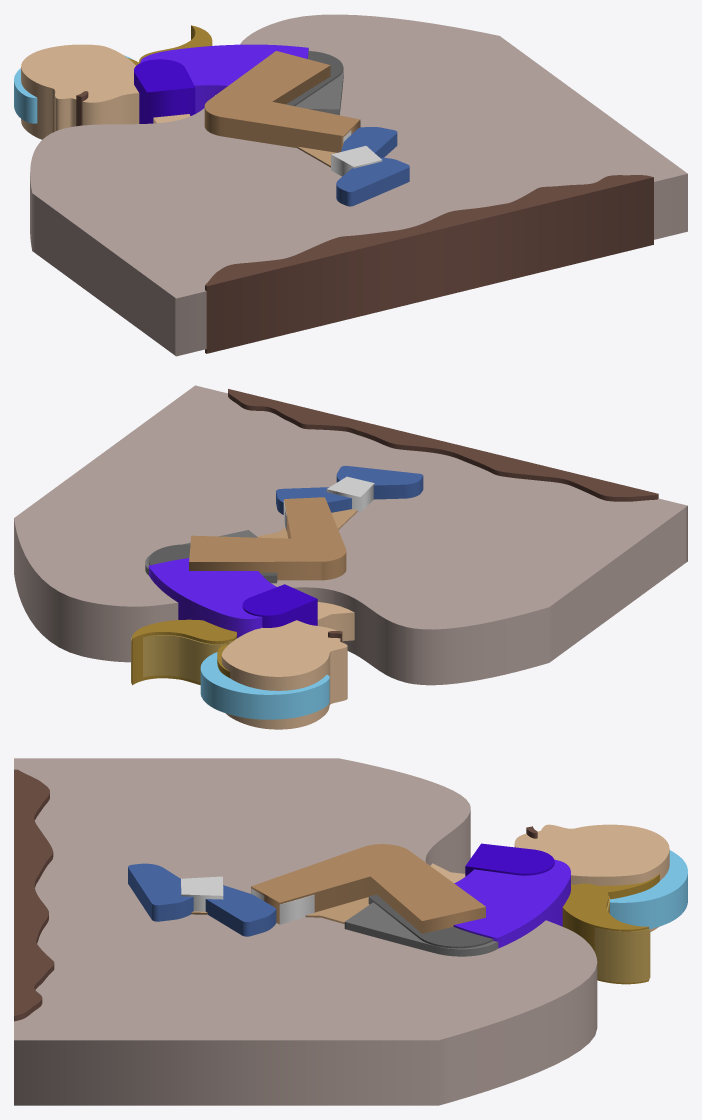
The model's file is emoji_u1f6b5_1f3fc_200d_2640.glb.
The picture shows the model from 3 angles, top to bottom: view 1: azimuth 30°, elevation 25°; view 2: azimuth 150°, elevation 25°; view 3: azimuth 270°, elevation 25°; orthographic projection. The views are drawn at different scales.
Parts seen in each view (by area): view 1: emoji_u1f6b5_1f3fc_200d_2640; view 2: emoji_u1f6b5_1f3fc_200d_2640; view 3: emoji_u1f6b5_1f3fc_200d_2640.
Boxes of the visible parts, x1,y1,x2,y2 form: emoji_u1f6b5_1f3fc_200d_2640: [14, 14, 687, 356]; emoji_u1f6b5_1f3fc_200d_2640: [14, 385, 687, 729]; emoji_u1f6b5_1f3fc_200d_2640: [14, 758, 687, 1105].
Size of the model in its own units: 0.0333 by 0.006 by 0.0336.
